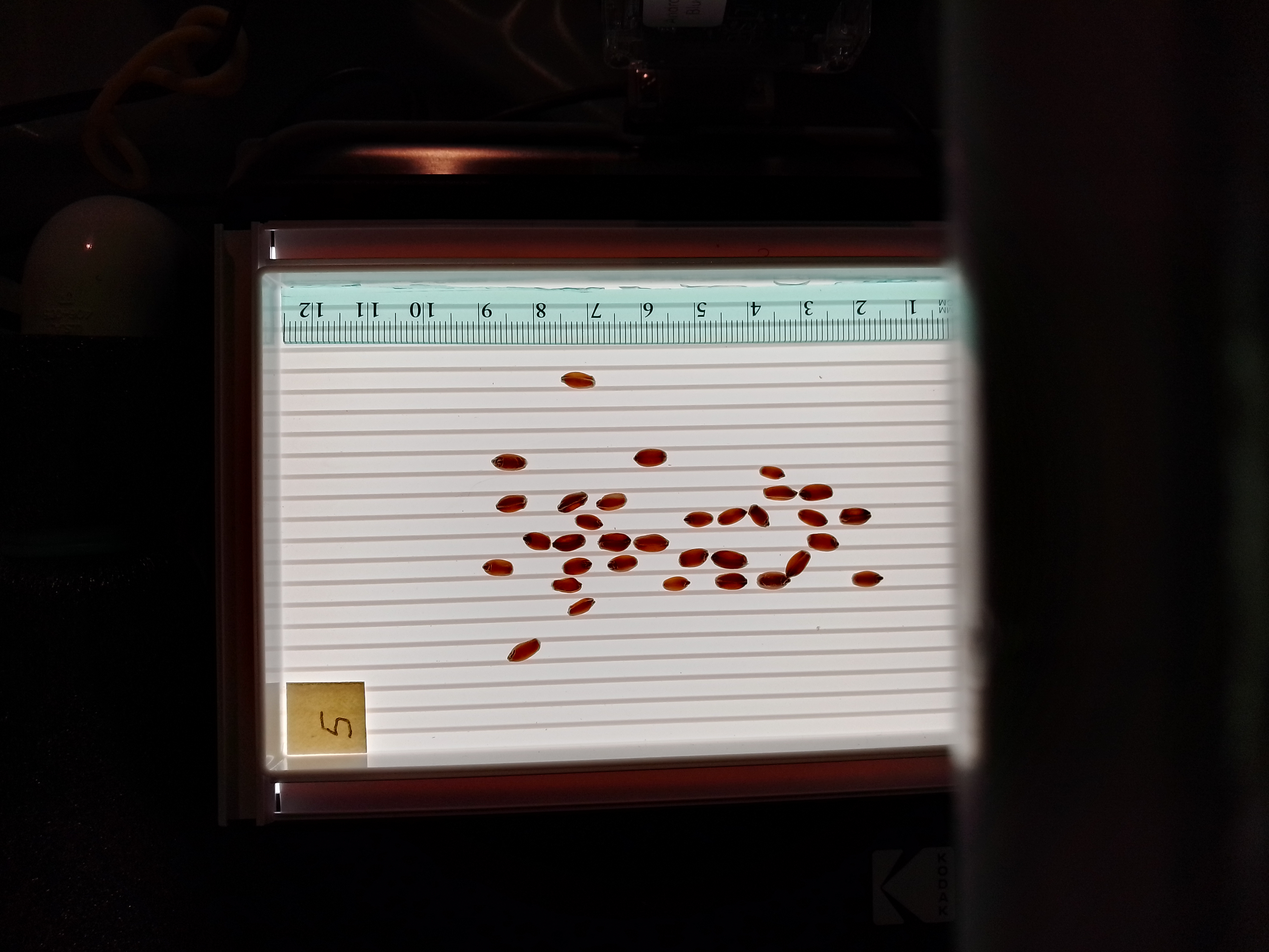seed mask: (508, 639, 540, 662), (786, 551, 810, 577), (713, 551, 747, 569), (599, 533, 631, 552), (635, 534, 668, 552), (558, 492, 587, 512), (562, 557, 592, 576), (493, 454, 526, 471), (715, 573, 746, 591), (635, 449, 666, 467), (800, 484, 832, 501), (758, 572, 788, 590), (555, 534, 585, 552), (841, 507, 871, 525), (562, 372, 595, 388), (484, 559, 513, 577), (597, 493, 626, 511), (497, 495, 526, 513), (718, 507, 745, 526), (808, 534, 838, 551), (679, 549, 707, 567), (799, 509, 827, 527), (524, 532, 550, 551), (597, 493, 626, 510), (852, 571, 882, 587), (764, 486, 796, 501), (569, 598, 594, 616), (749, 506, 770, 527), (684, 512, 713, 527), (609, 556, 636, 572), (575, 514, 602, 530), (553, 578, 581, 593), (664, 576, 689, 592), (760, 465, 784, 480)
